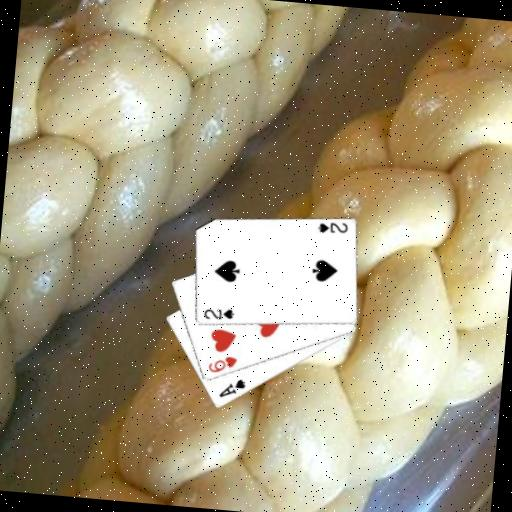2S: (201, 305, 236, 324), (314, 218, 350, 236)
6H: (205, 352, 239, 377)
AS: (216, 375, 248, 402)
